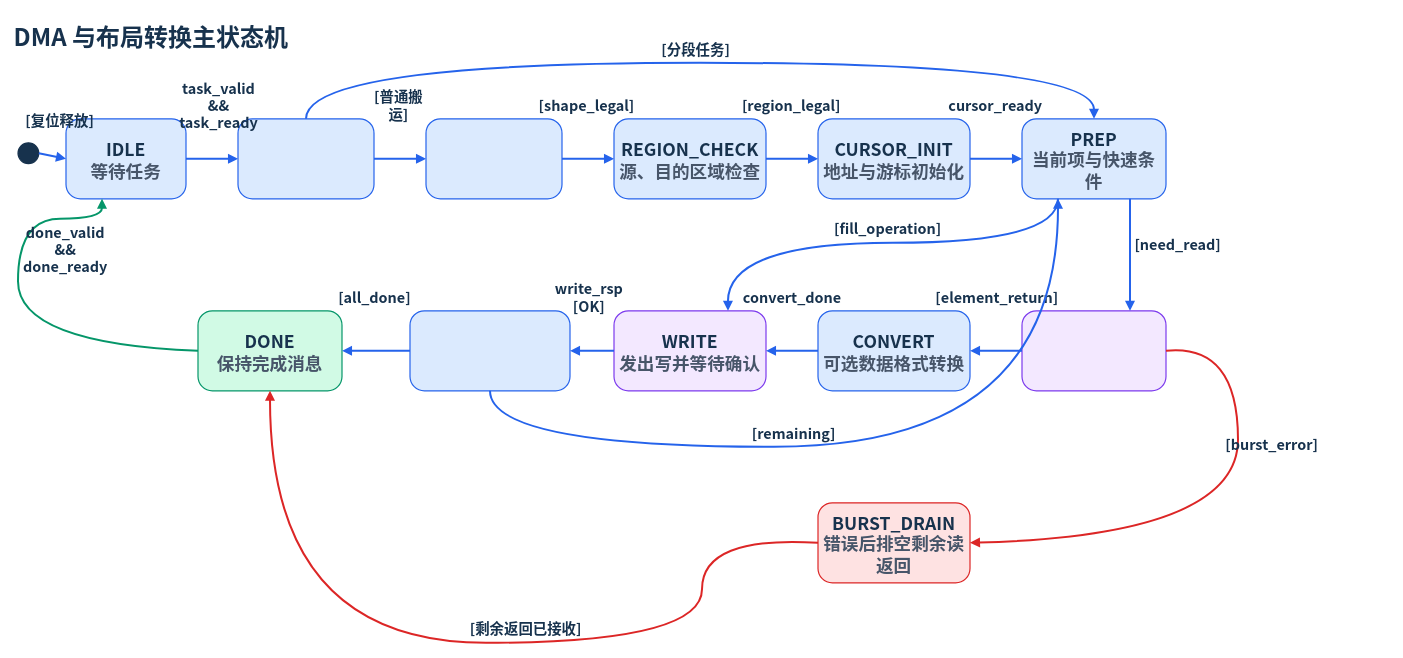
This 1403x658 diagram has some shape labels left out. Here are the shapes that lost their labels. From the top down, the box of each, then its label:
(237, 118, 374, 199): CHECK 操作与格式检查
(425, 118, 562, 199): SHAPE 形状乘积计算
(409, 310, 570, 391): ADVANCE 推进元素、维度或分段
(1021, 310, 1166, 391): READ 发出读并接收返回
